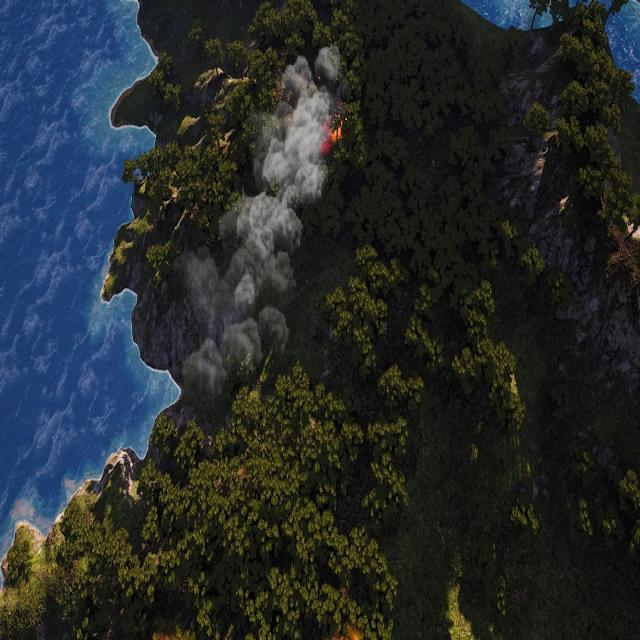fire: (321, 120, 341, 154)
smoke: (174, 51, 348, 402)
